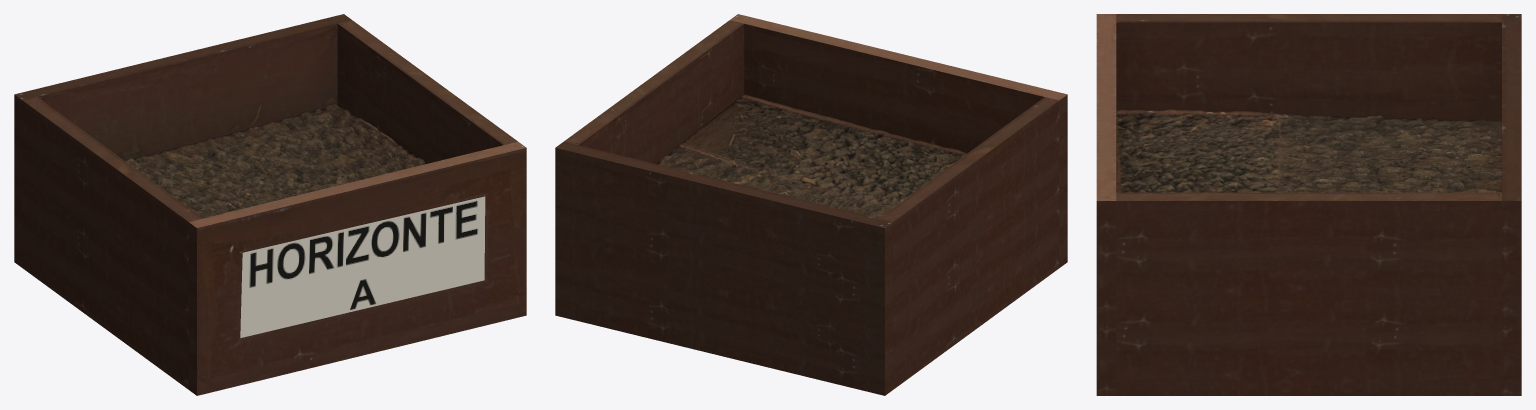
File: horizonte_03_02_a.glb
The picture shows the model from 3 angles, left to right: view 1: azimuth 30°, elevation 25°; view 2: azimuth 150°, elevation 25°; view 3: azimuth 270°, elevation 25°; orthographic projection. The views are drawn at different scales.
Visible parts, largest first — view 1: Parede_Frontal_h02, Lateral_Esquerda_h02, Parede_Traseira_h02, Etiqueta_h02, Conteudo_h02, Lateral_Direita_h02; view 2: Parede_Traseira_h02, Lateral_Esquerda_h02, Parede_Frontal_h02, Conteudo_h02, Lateral_Direita_h02; view 3: Lateral_Direita_h02, Lateral_Esquerda_h02, Conteudo_h02, Parede_Frontal_h02, Parede_Traseira_h02.
Part boxes in pixels (x1,y1,x2,y2): Parede_Frontal_h02: (188, 141, 526, 395); Lateral_Esquerda_h02: (22, 97, 202, 389); Parede_Traseira_h02: (14, 14, 351, 267); Etiqueta_h02: (240, 196, 485, 337); Conteudo_h02: (124, 103, 425, 218); Lateral_Direita_h02: (337, 20, 517, 163); Parede_Traseira_h02: (555, 141, 893, 395); Lateral_Esquerda_h02: (879, 97, 1059, 389); Parede_Frontal_h02: (730, 14, 1067, 267); Conteudo_h02: (657, 94, 966, 218); Lateral_Direita_h02: (564, 20, 744, 164); Lateral_Direita_h02: (1116, 192, 1501, 395); Lateral_Esquerda_h02: (1116, 14, 1501, 121); Conteudo_h02: (1116, 109, 1501, 192); Parede_Frontal_h02: (1096, 14, 1116, 395); Parede_Traseira_h02: (1502, 14, 1521, 395).
Size of the model in its own units: 0.3 by 0.1459 by 0.2883.
Materials: 3 (3 with a texture image).
